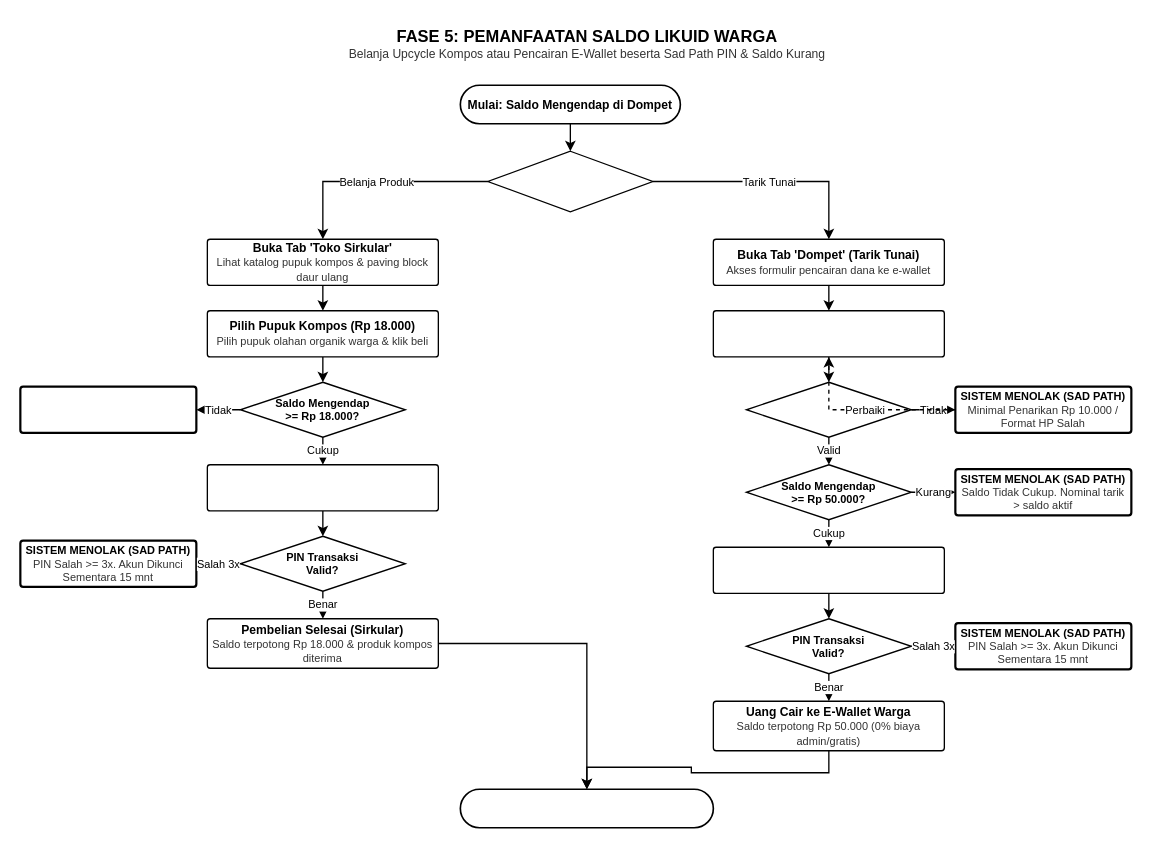
Image size: 1151x847. Some labels were removed from this diagram. Here are the shapes that lost their labels. From the top down, the box of each, then its label:
(487, 150, 653, 212): Pilihan Pemanfaatan Saldo Mengendap?
(712, 310, 944, 357): Pilih E-Wallet & Nominal Pilih GoPay/DANA, nominal Rp 50.000, & ketik nomor HP
(19, 385, 197, 433): SISTEM MENOLAK (SAD PATH) Saldo Tidak Cukup. Transaksi dibatalkan
(745, 381, 911, 437): Nominal >= 10k & No HP Valid?
(206, 464, 438, 511): Input PIN Transaksi 6 Digit Verifikasi keamanan otorisasi pemotongan saldo
(712, 546, 944, 594): Input PIN Transaksi 6 Digit Verifikasi keamanan pencairan dana e-wallet
(459, 788, 714, 828): Selesai: Dampak Ekologi & Finansial Nyata
